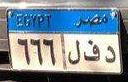6: (29, 37, 43, 66), (43, 38, 57, 66), (16, 37, 30, 65)
daal: (104, 45, 116, 66)
faa: (83, 39, 101, 63)
laam: (67, 36, 81, 66)
